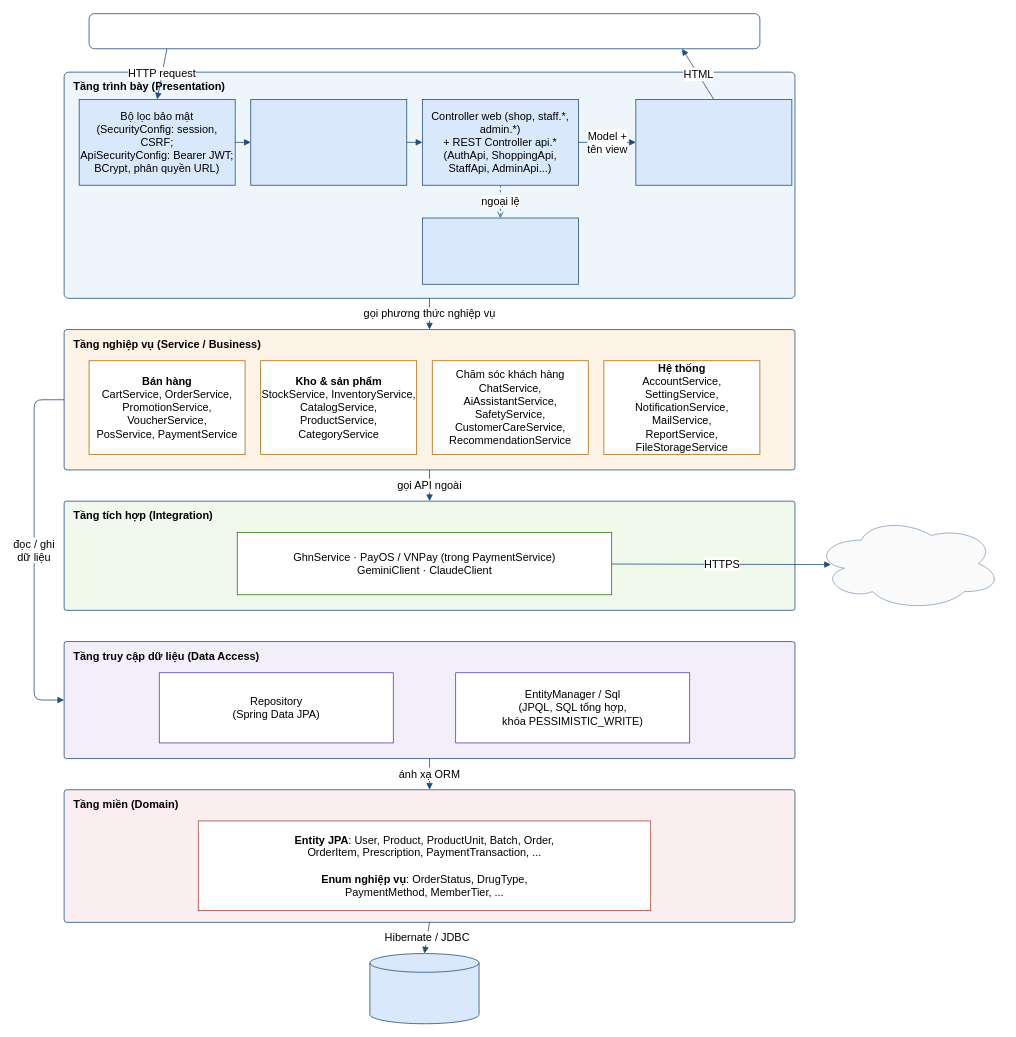
Some shapes in this 1016 by 1037 pixel diagram are drawn without their labels. The centre of each missing label's shape, as x and y in pixels:
Dịch vụ ngoài (GHN, PayOS, VNPay, Gemini / Claude): the point at 908,563
Interceptor (StaffAccessInterceptor, PresenceInterceptor): the point at 328,142
MySQL: the point at 424,988
Trình duyệt web: the point at 424,31
View Thymeleaf (HTML) / JSON qua DTO (API): the point at 713,142
Xử lý lỗi chung (GlobalControllerAdvice, ApiExceptionHandler): the point at 500,250
